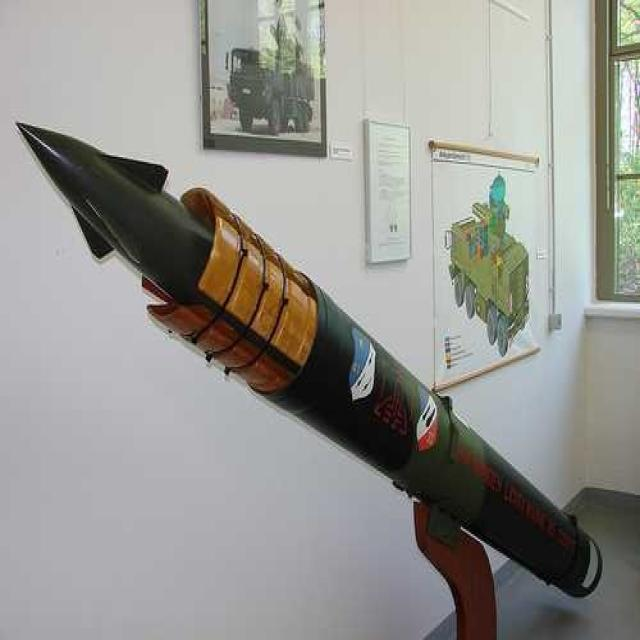missile: (13, 116, 606, 603)
